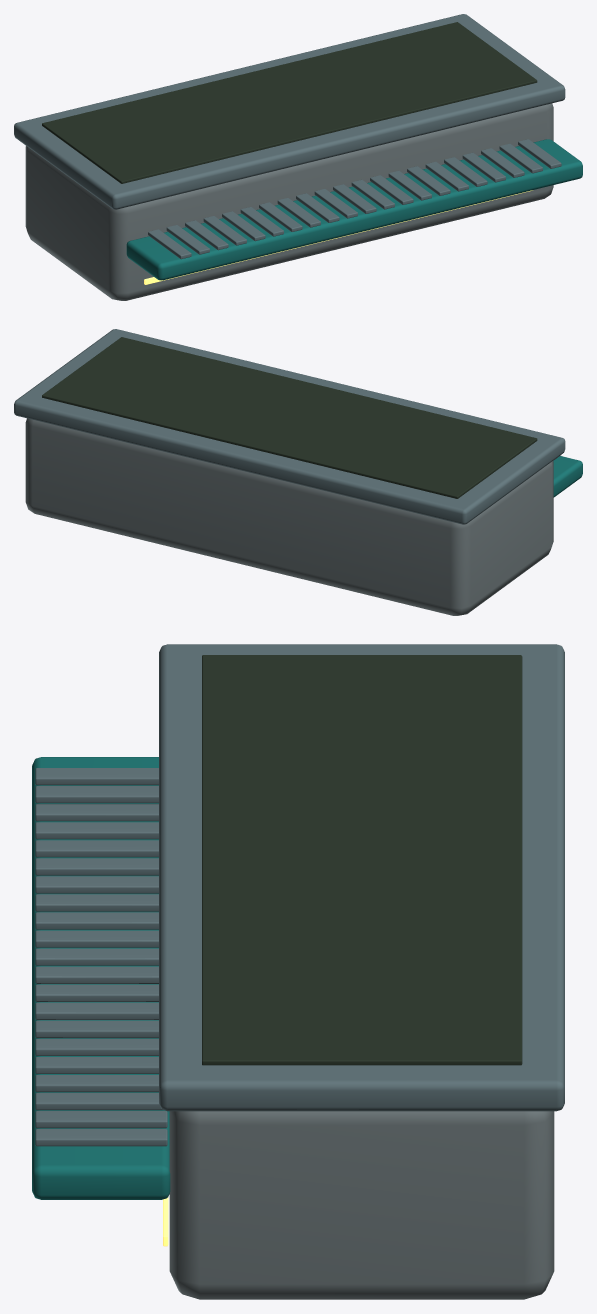
File: planter_bench.glb
The picture shows the model from 3 angles, top to bottom: view 1: azimuth 30°, elevation 25°; view 2: azimuth 150°, elevation 25°; view 3: azimuth 270°, elevation 25°; orthographic projection. The views are drawn at different scales.
Visible parts, largest first — view 1: planter_bench; view 2: planter_bench; view 3: planter_bench.
Boxes of the visible parts, left/top/right/bottom form: planter_bench: left=14, top=14, right=582, bottom=300; planter_bench: left=14, top=329, right=582, bottom=615; planter_bench: left=32, top=644, right=564, bottom=1299.
Bounding box in the file's own units: 4.9 × 1.23 × 2.5.
